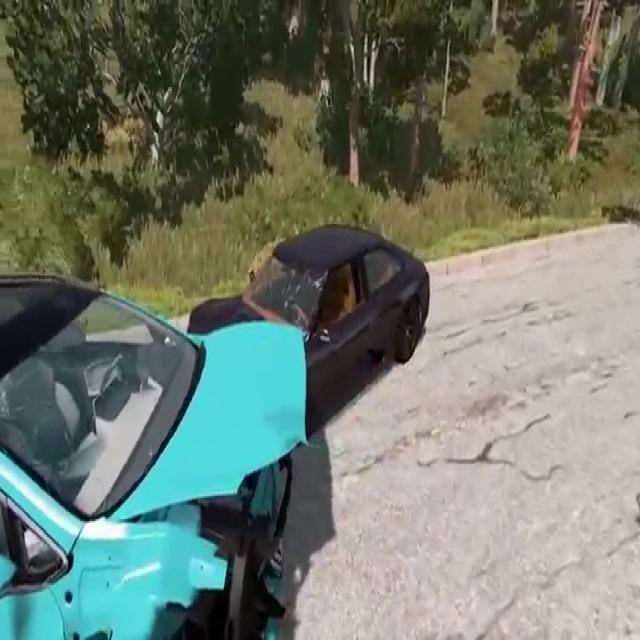moderate: (0, 217, 445, 629)
